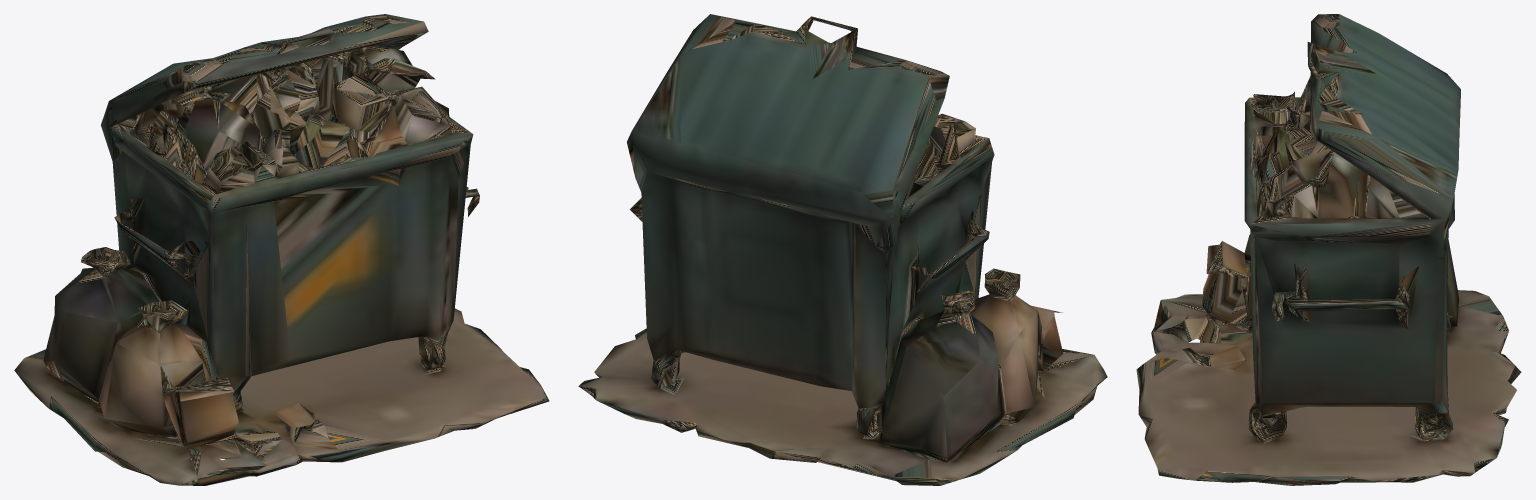
Rendered from rubbish.glb.
The picture shows the model from 3 angles, left to right: view 1: azimuth 30°, elevation 25°; view 2: azimuth 150°, elevation 25°; view 3: azimuth 270°, elevation 25°; orthographic projection.
Parts seen in each view (by area): view 1: tripo_node_1b921ced; view 2: tripo_node_1b921ced; view 3: tripo_node_1b921ced.
Boxes of the visible parts, x1,y1,x2,y2 form: tripo_node_1b921ced: [14, 14, 549, 485]; tripo_node_1b921ced: [578, 14, 1107, 485]; tripo_node_1b921ced: [1136, 14, 1521, 485].
Bounding box in the file's own units: 96.23 × 78.9 × 79.06.
1 material, 1 textured.
